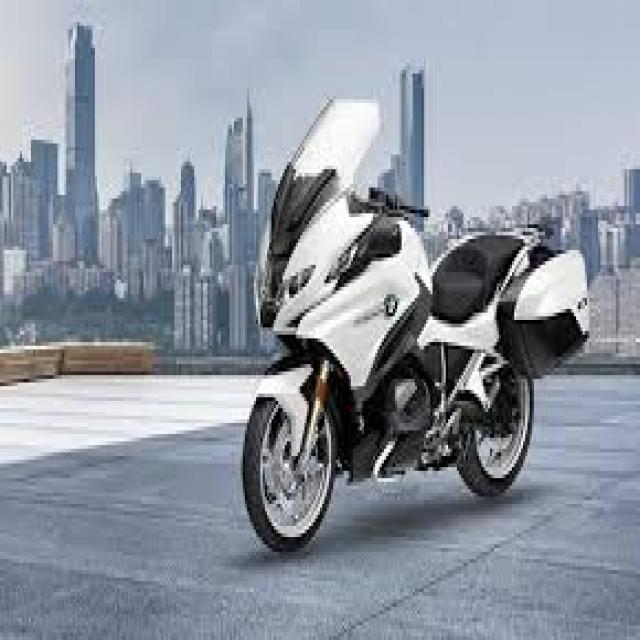Bike: (241, 97, 591, 554)
